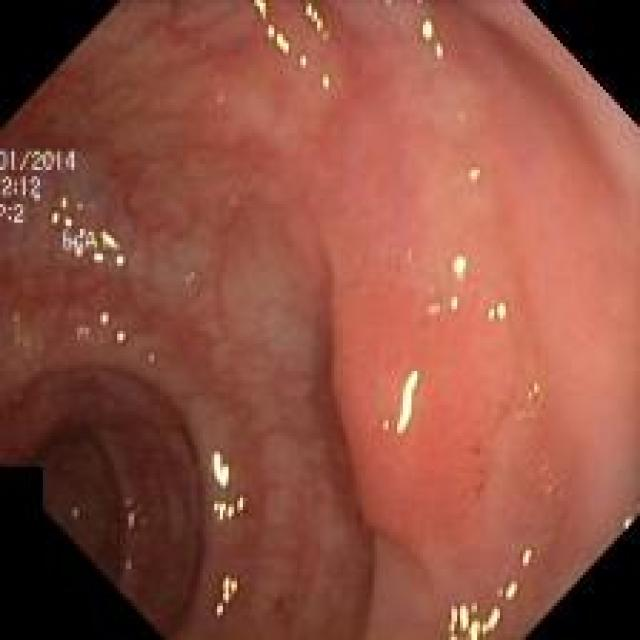Polyps: (325, 87, 555, 589)
